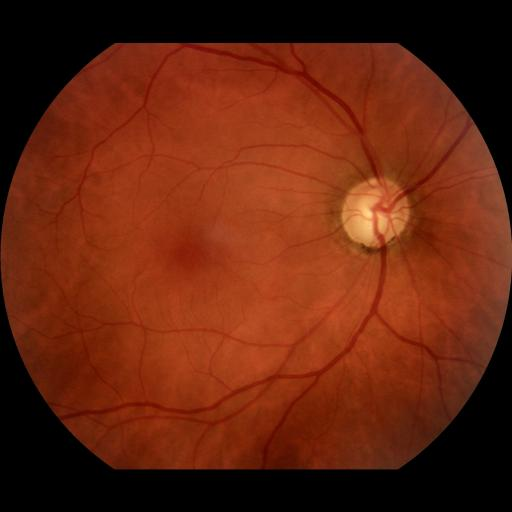Optic Cup: (357, 190, 390, 229)
Optic Disc: (342, 176, 410, 248)
